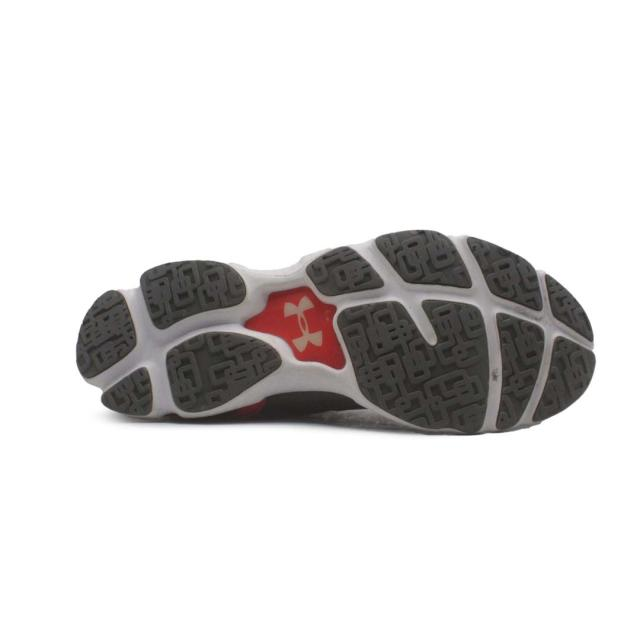outersole: (75, 235, 595, 442)
